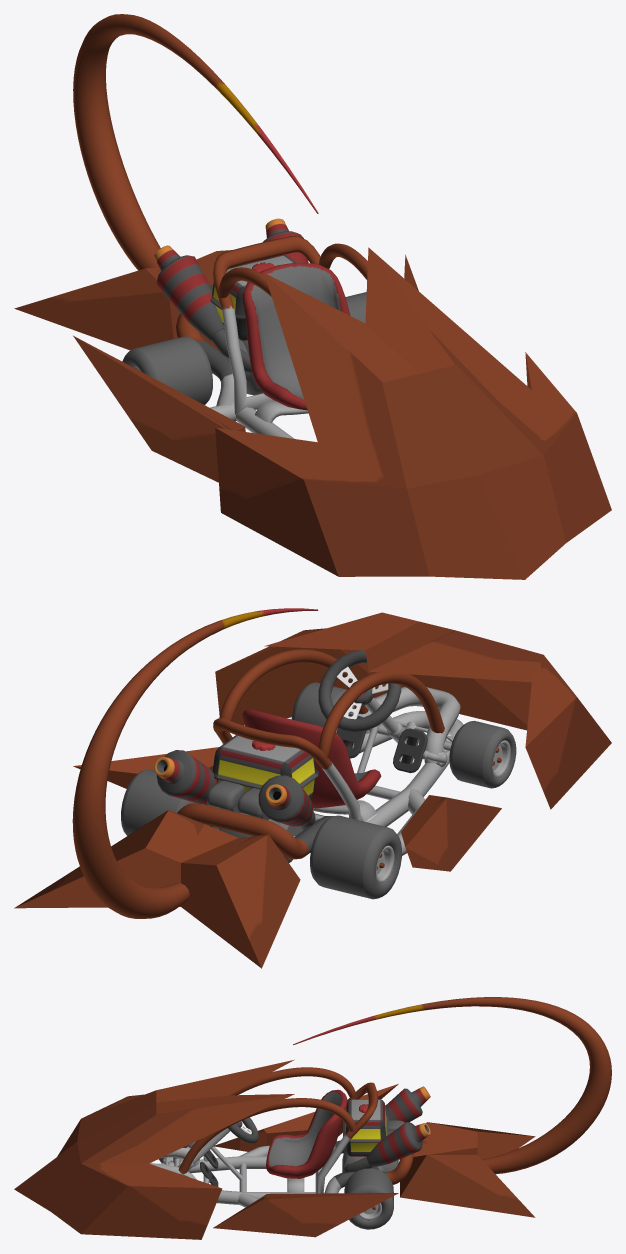
File: horseshoecrabkartbulky3.01.fbx
3 renders of one model, top to bottom at view 1: azimuth 30°, elevation 25°; view 2: azimuth 150°, elevation 25°; view 3: azimuth 270°, elevation 25°, orthographic. The views are drawn at different scales.
Parts seen in each view (by area): view 1: Cube, NurbsPath, Kart_Body, Cadeira, Escapamento, WheelsRearRight, Gas Tank, NurbsPath.001, NurbsPath.002; view 2: Cube, Kart_Body, NurbsPath, WheelsRearRight, Escapamento, Gas Tank, WheelFrontRight, Cadeira, volante, NurbsPath.001, WheelrearLeft, NurbsPath.002 (+2 smaller); view 3: Cube, NurbsPath, Kart_Body, Cadeira, Escapamento, WheelrearLeft, Gas Tank, NurbsPath.002, NurbsPath.001, volante, Motor.
Part boxes in pixels (x1,y1,x2,y2): Cube: (14,247,611,579); NurbsPath: (73,14,318,270); Kart_Body: (176,236,320,438); Cadeira: (242,262,350,410); Escapamento: (154,218,308,340); WheelsRearRight: (122,336,212,404); Gas Tank: (210,255,295,340); NurbsPath.001: (218,267,271,298); NurbsPath.002: (319,243,367,280); Cube: (14,612,611,968); Kart_Body: (177,687,463,859); NurbsPath: (72,608,318,918); WheelsRearRight: (310,815,401,899); Escapamento: (154,750,312,826); Gas Tank: (211,735,319,798); WheelFrontRight: (449,720,516,788); Cadeira: (242,709,381,808); volante: (318,650,401,731); NurbsPath.001: (318,672,444,758); WheelrearLeft: (121,769,204,835); NurbsPath.002: (219,649,368,720); Cube: (14,1059,535,1239); NurbsPath: (293,997,611,1174); Kart_Body: (149,1082,413,1207); Cadeira: (266,1089,347,1178); Escapamento: (367,1086,430,1167); WheelrearLeft: (344,1168,393,1229); Gas Tank: (343,1099,388,1156); NurbsPath.002: (178,1098,355,1174); NurbsPath.001: (183,1067,355,1147); volante: (228,1117,258,1143); Motor: (342,1148,398,1172).
Size of the model in its own units: 171 by 141 by 395.
Materials: 3 (3 with a texture image).
